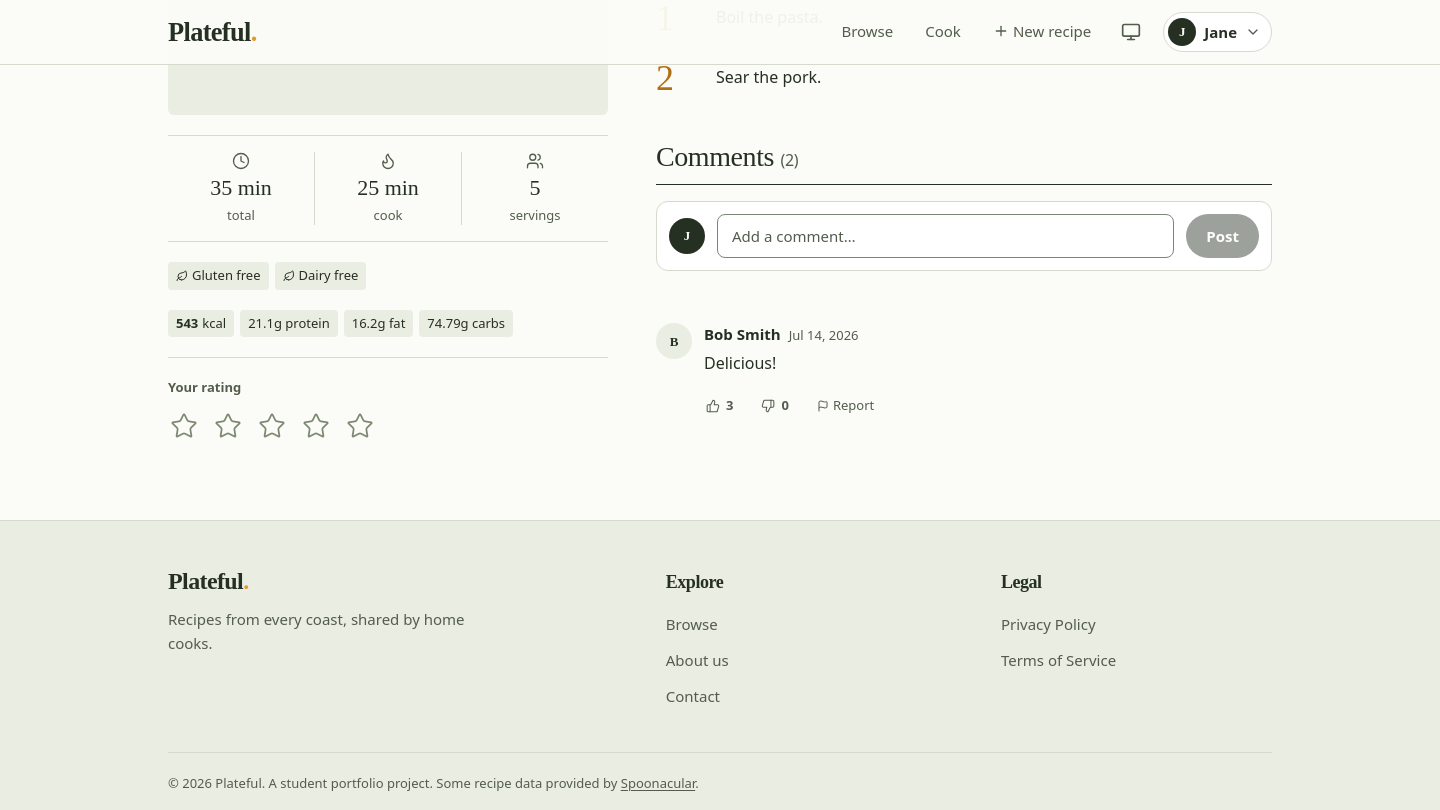
Test case: reporting a comment posts its id
The width and height of the screenshot is (1440, 810).
(page scrolled)
Click the button with aria-label "report comment by bob smith": click(846, 406) 805,384 -> 886,428
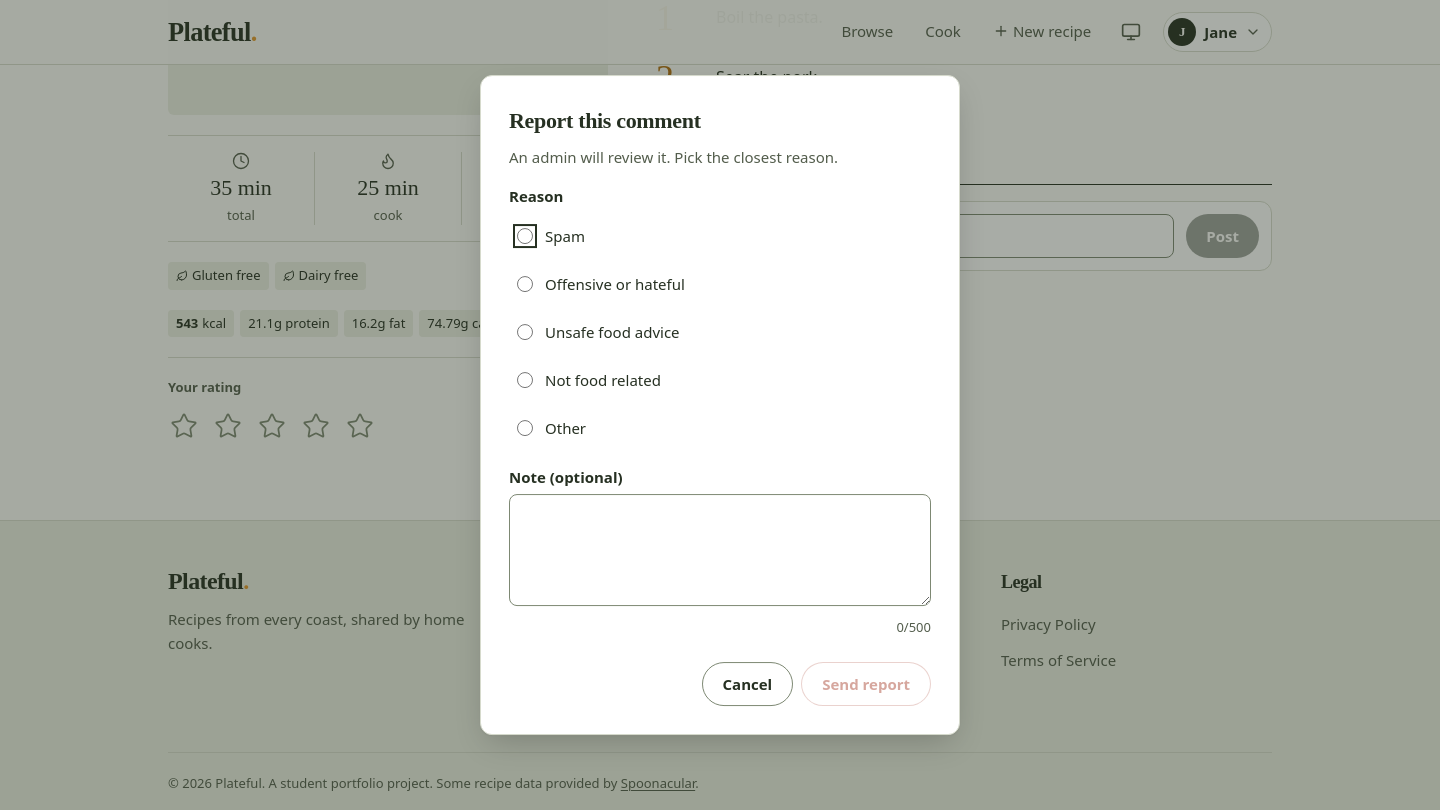
Click the radio button labelled "Offensive or hateful": click(525, 284) 517,276 -> 533,292
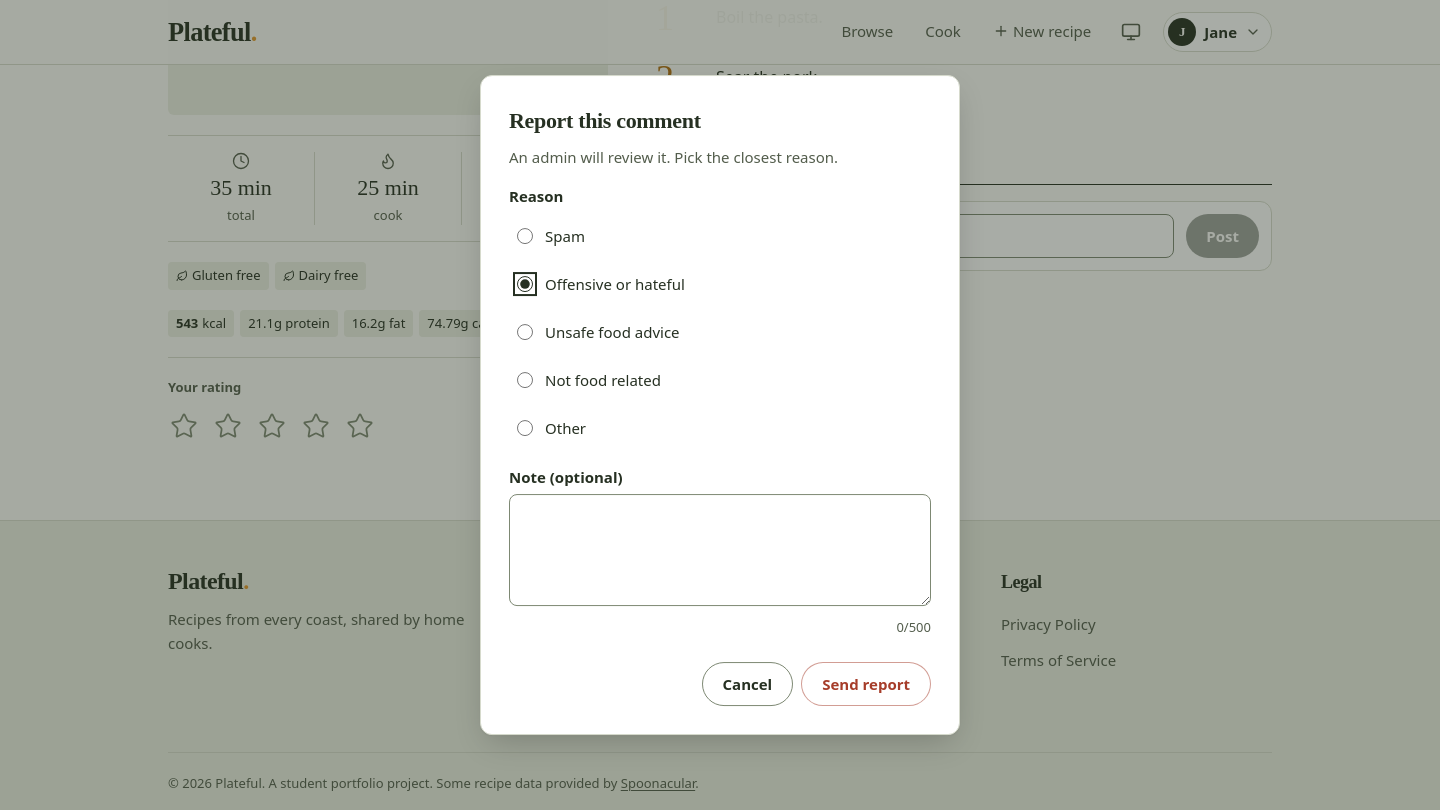
Click the button "Send report": click(866, 684) 801,662 -> 931,706
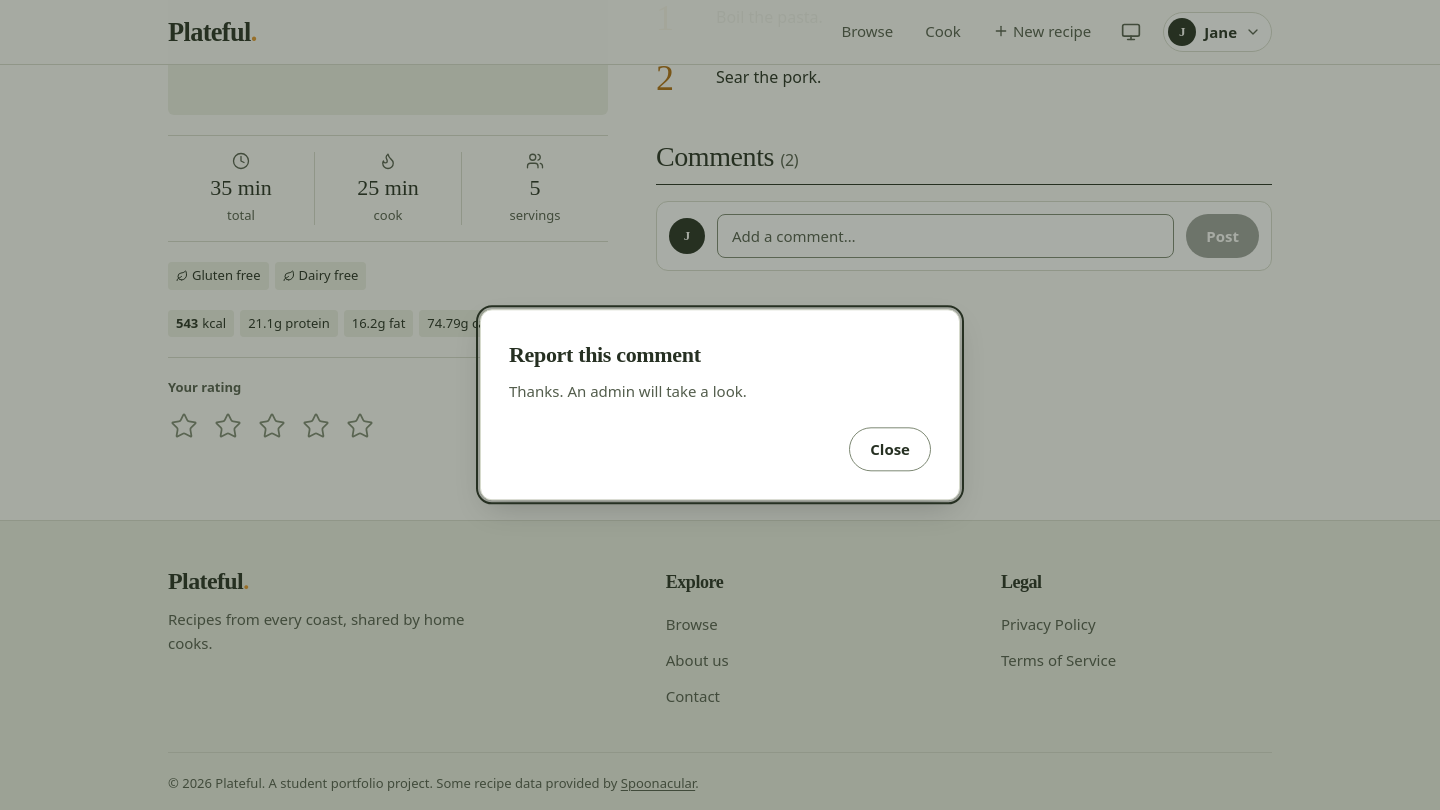
Expected: the text "Thanks. An admin will take a look." is shown, 509,381 -> 747,401
